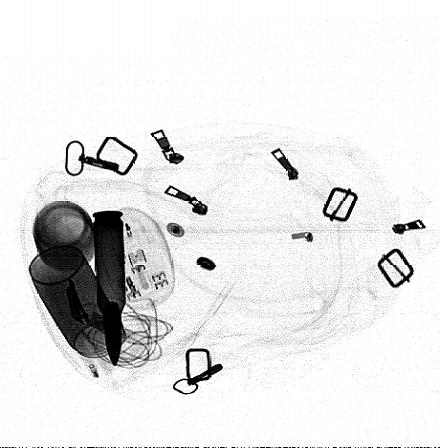Bullet: (92, 207, 127, 370)
